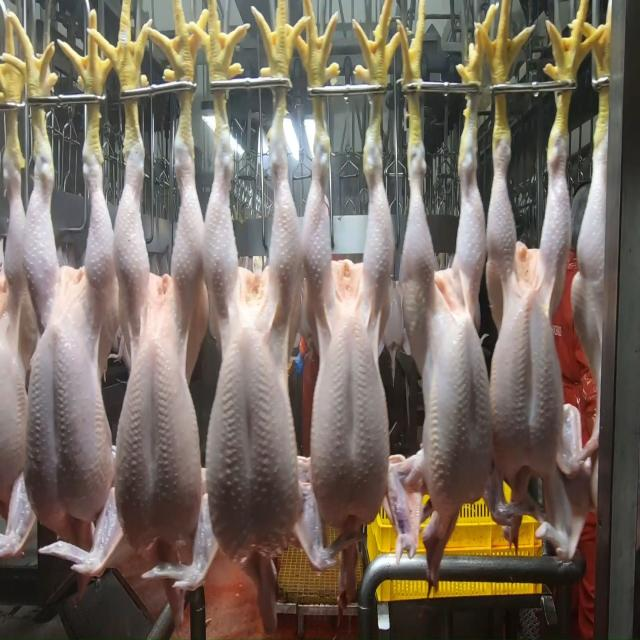chicken: (200, 126, 303, 604), (394, 87, 494, 569), (300, 124, 398, 590), (20, 122, 114, 550), (117, 135, 204, 560), (487, 123, 575, 542)
